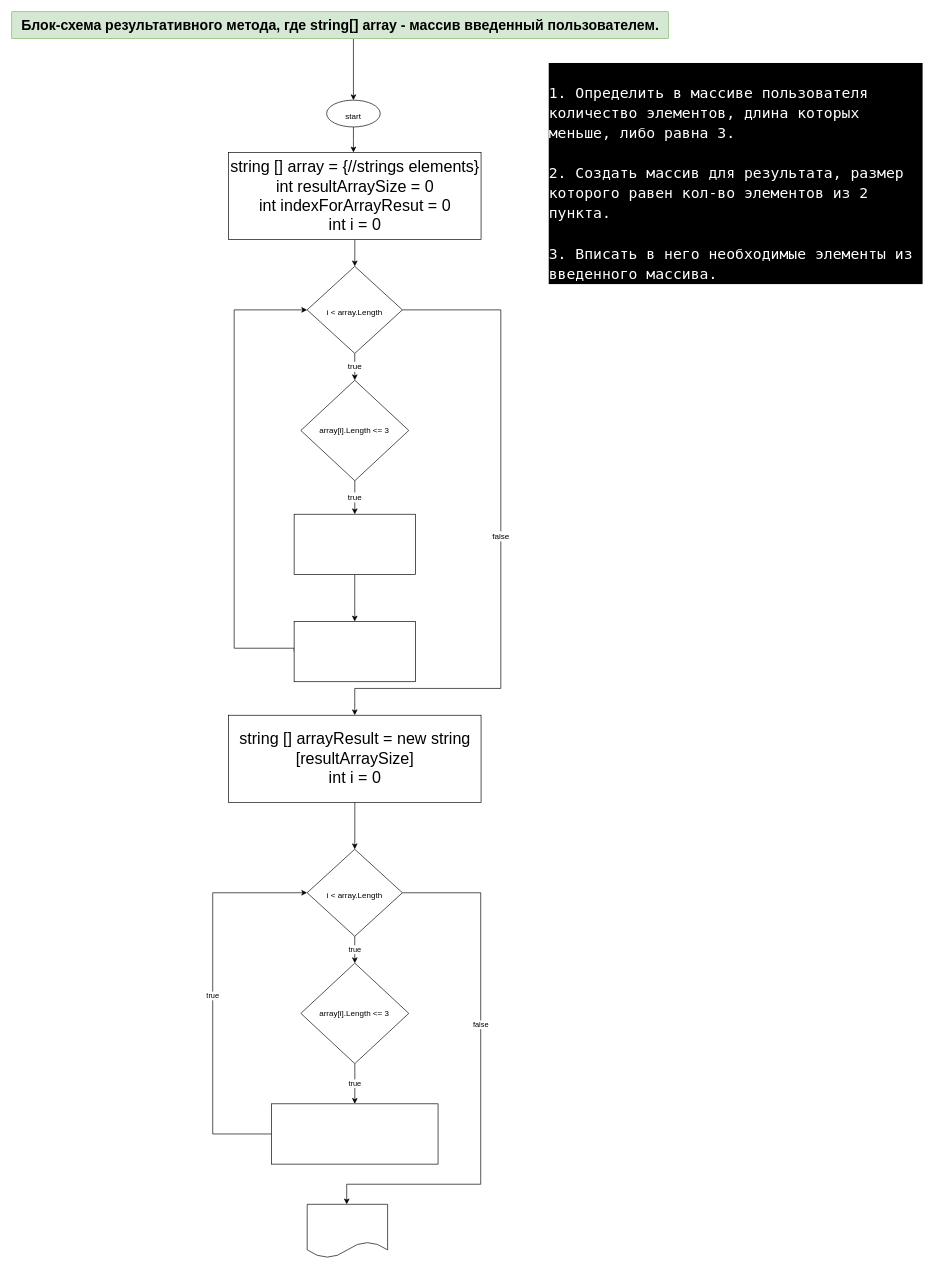
Some shapes in this 935 by 1270 pixel diagram are drawn without their labels. Here are the shapes that lost their labels. From the top down, the centre of each, then its label:
At (354,544): "resultArraySize++".
At (354,651): "index = index + 1".
At (354,1133): "arrayResult[indexForResultArray] = array[i] indexForResultArray++".
At (347,1231): "arrayResult".
